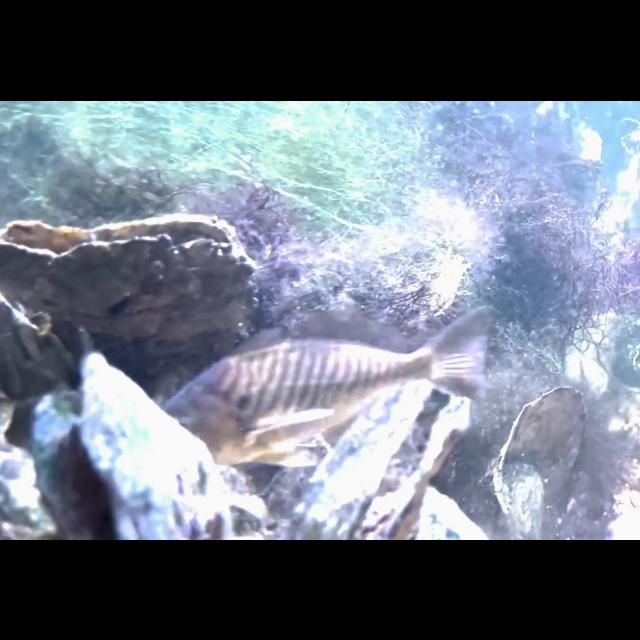Oyster-Closed: (498, 385, 588, 519), (0, 431, 58, 538)
Oyster-Open: (31, 349, 230, 539), (0, 210, 260, 353), (294, 376, 472, 540)
